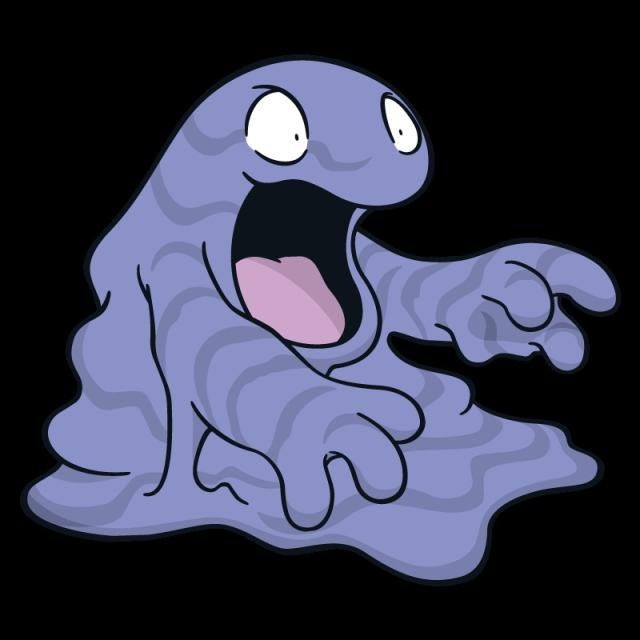Grimer: (76, 64, 488, 540)
